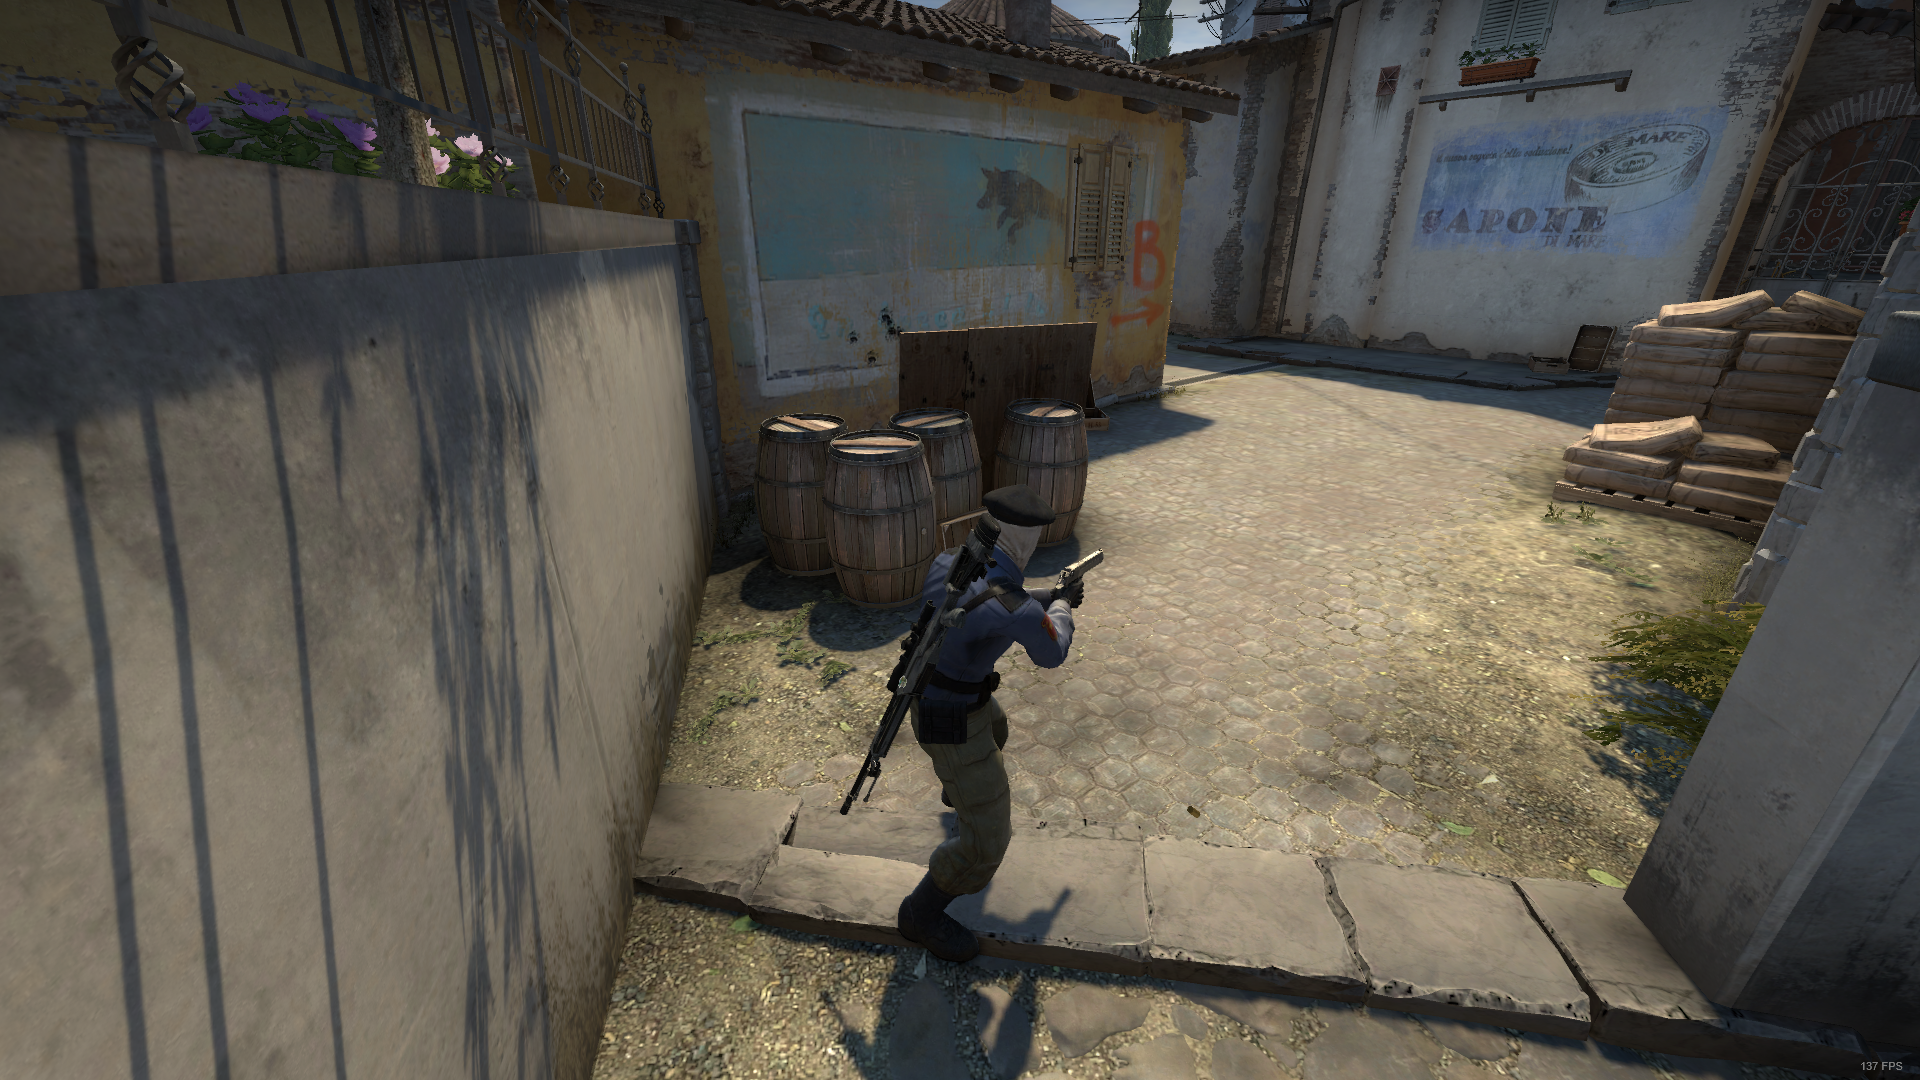t: (872, 479, 1098, 982)
